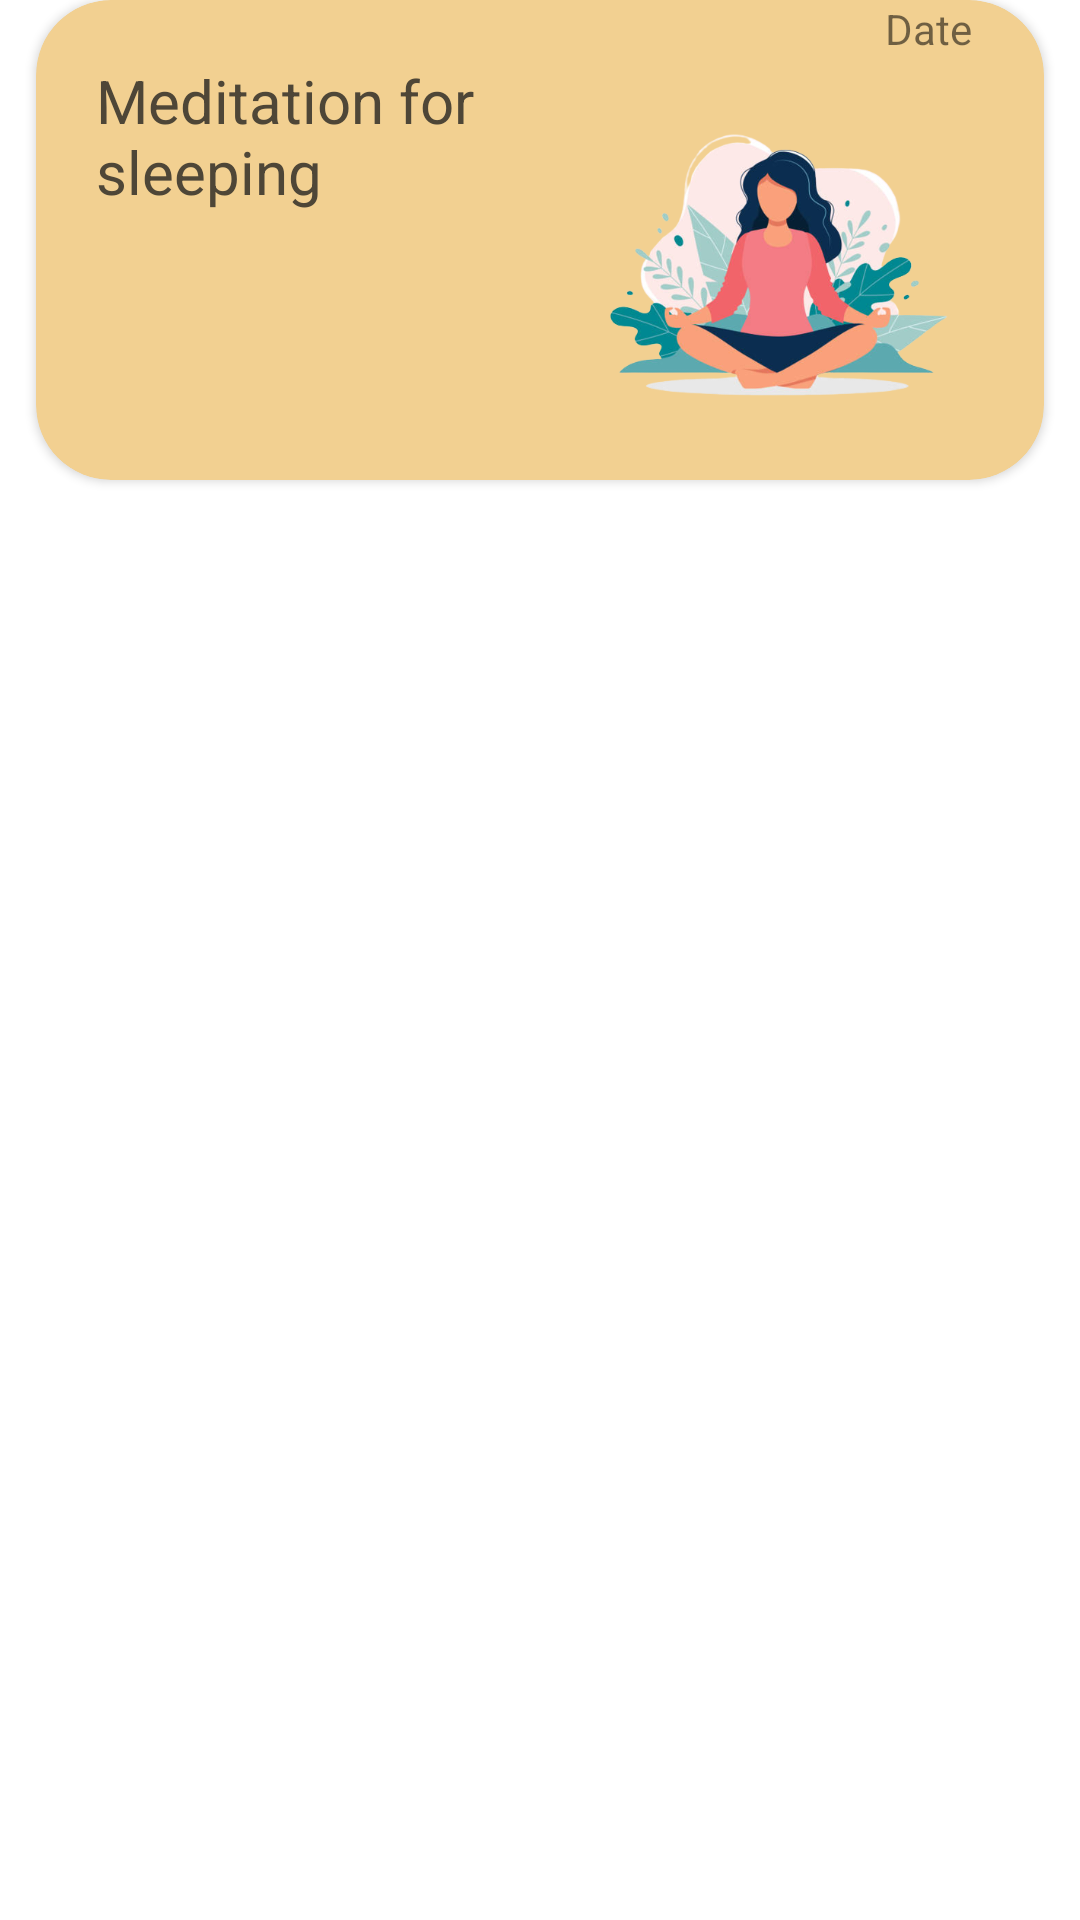

Where to tap for icons on this 1080 x 1920 app screen, as point (x, y):
girl meditating: point (778, 264)
